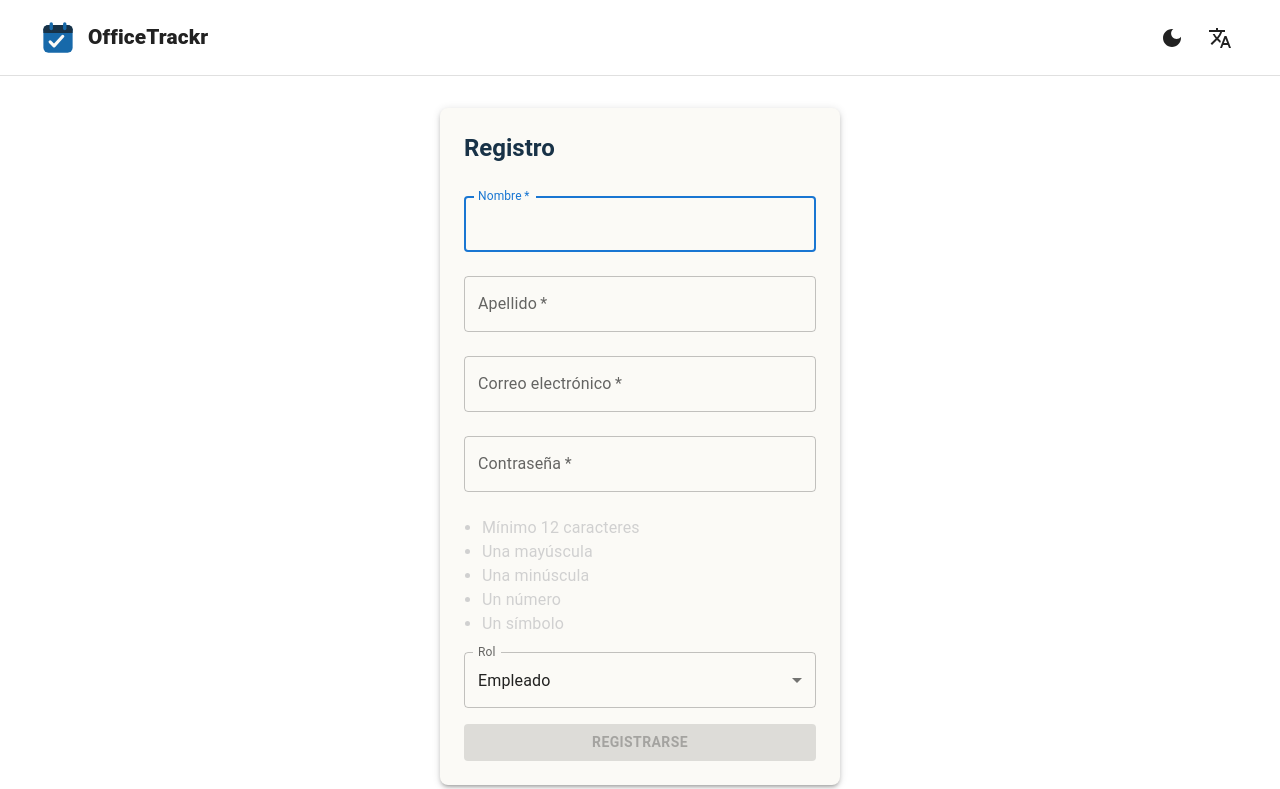
Register › uses the login fallback if automatic login fails after registration
This screenshot has width=1280, height=789.
Type "John" into the field labelled "Nombre *" at [640, 224], box x1=464 y1=196 x2=816 y2=252
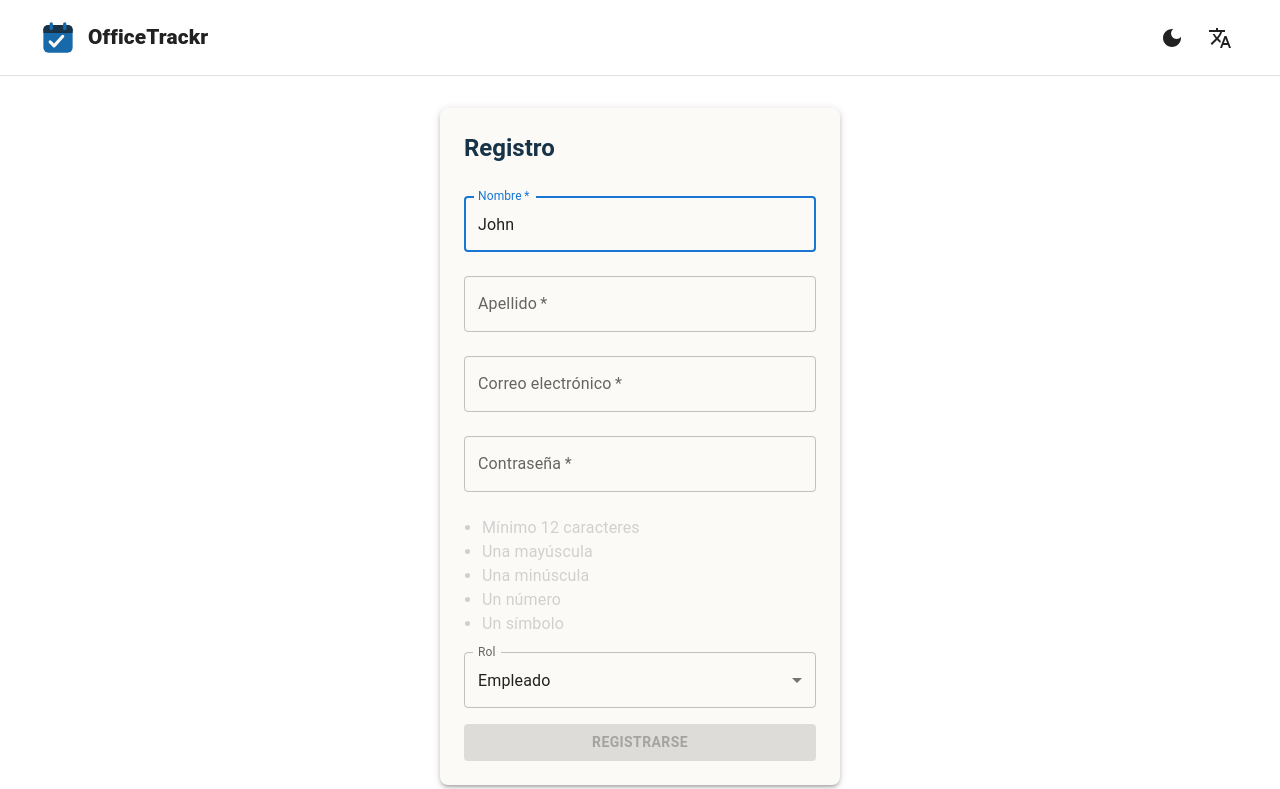
Type "Doe" into the field labelled "Apellido *" at [640, 304], box x1=464 y1=276 x2=816 y2=332
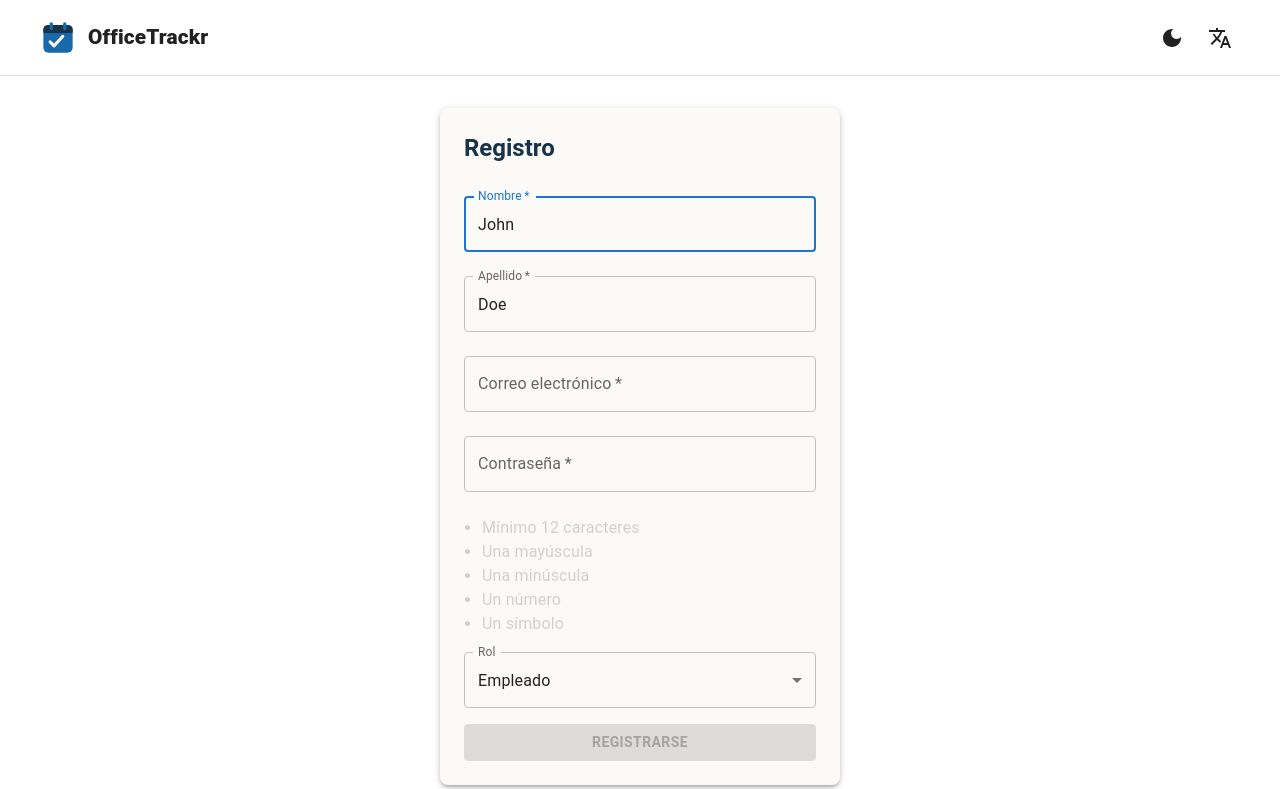
Type "john@example.com" into the field labelled "Correo electrónico *" at [640, 384], box x1=464 y1=356 x2=816 y2=412
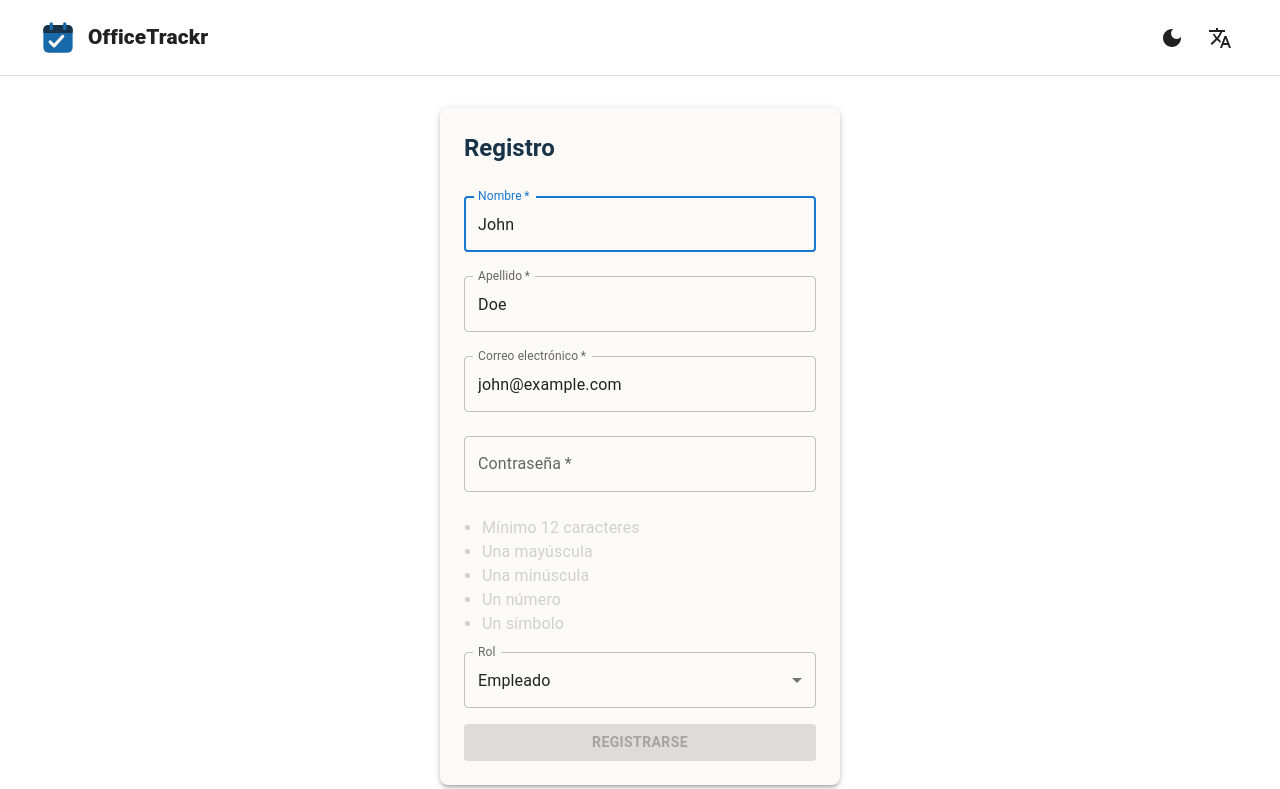
Type "Password123!!" into the password field labelled "Contraseña *" at [640, 464], box x1=464 y1=436 x2=816 y2=492
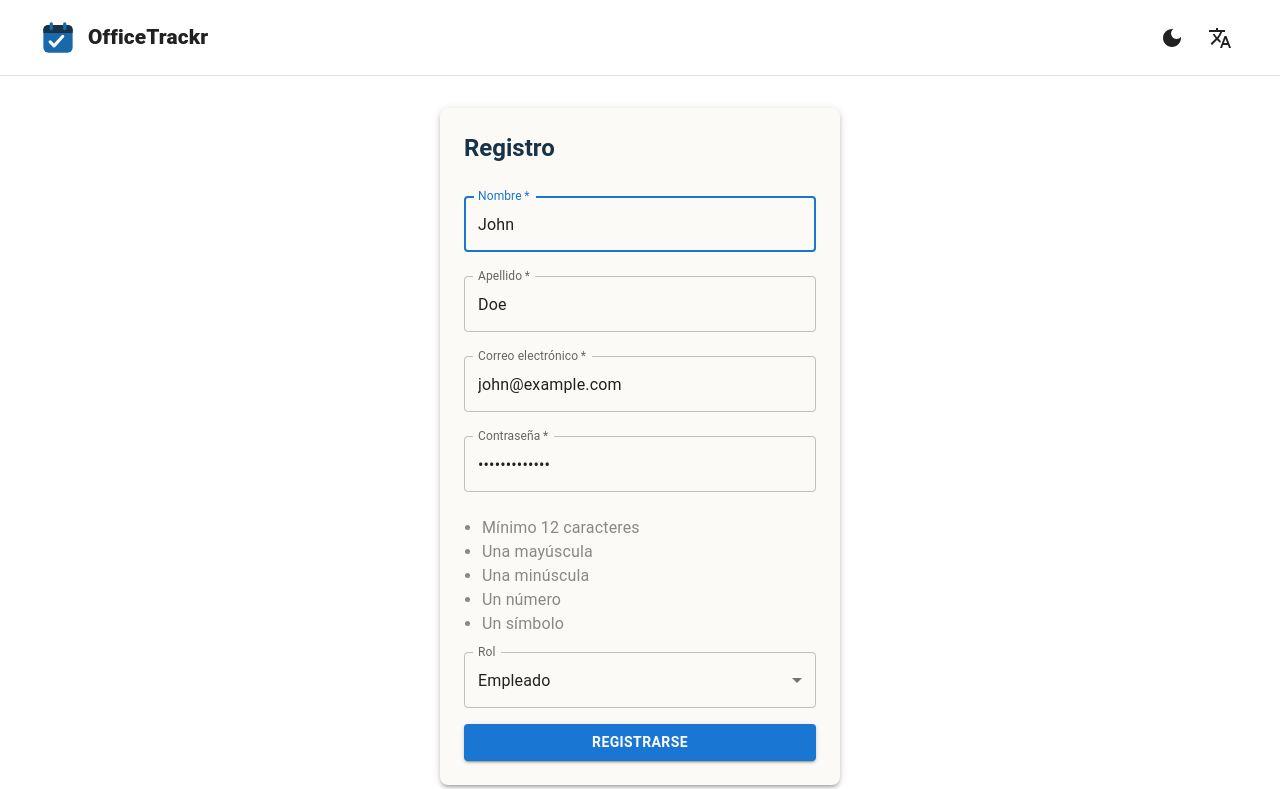
Click the button "Registrarse" at [640, 742], box x1=464 y1=724 x2=816 y2=760
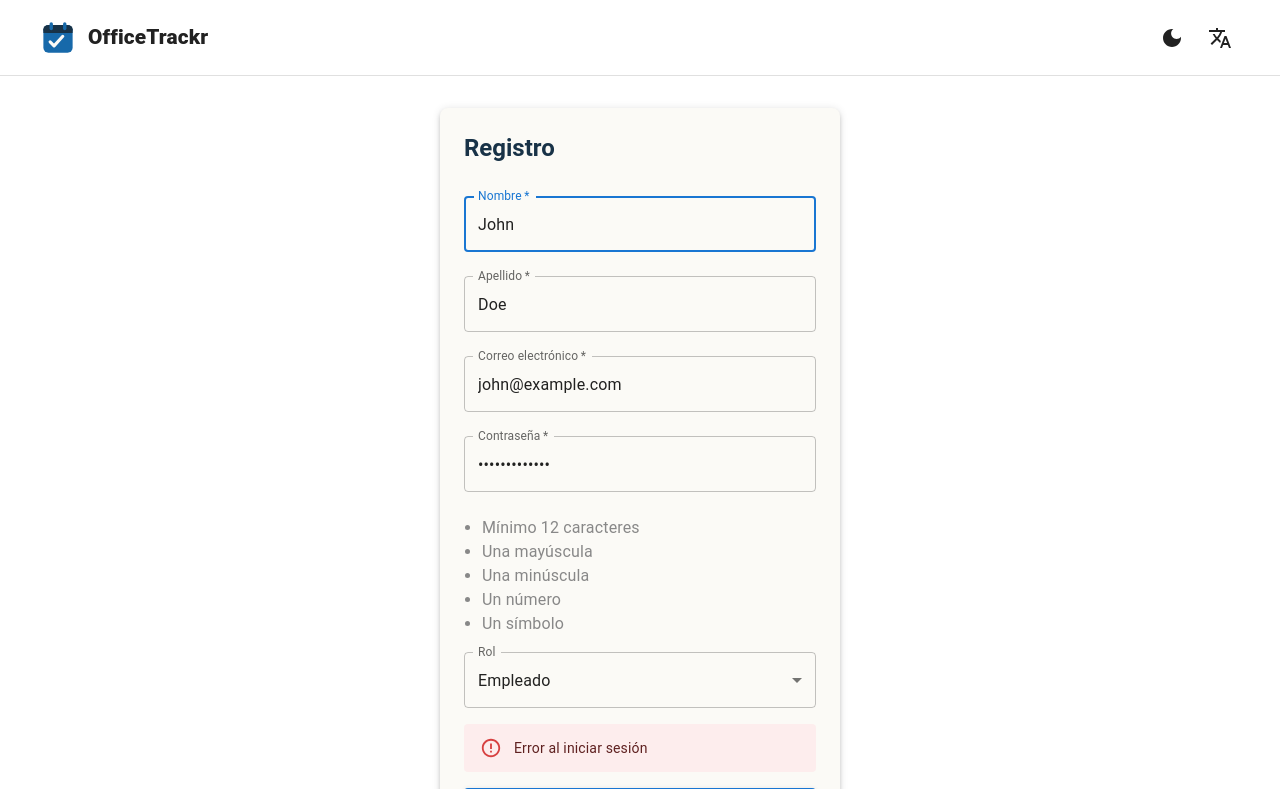
Now the text "Error al iniciar sesión" is shown, box x1=514 y1=740 x2=648 y2=756
